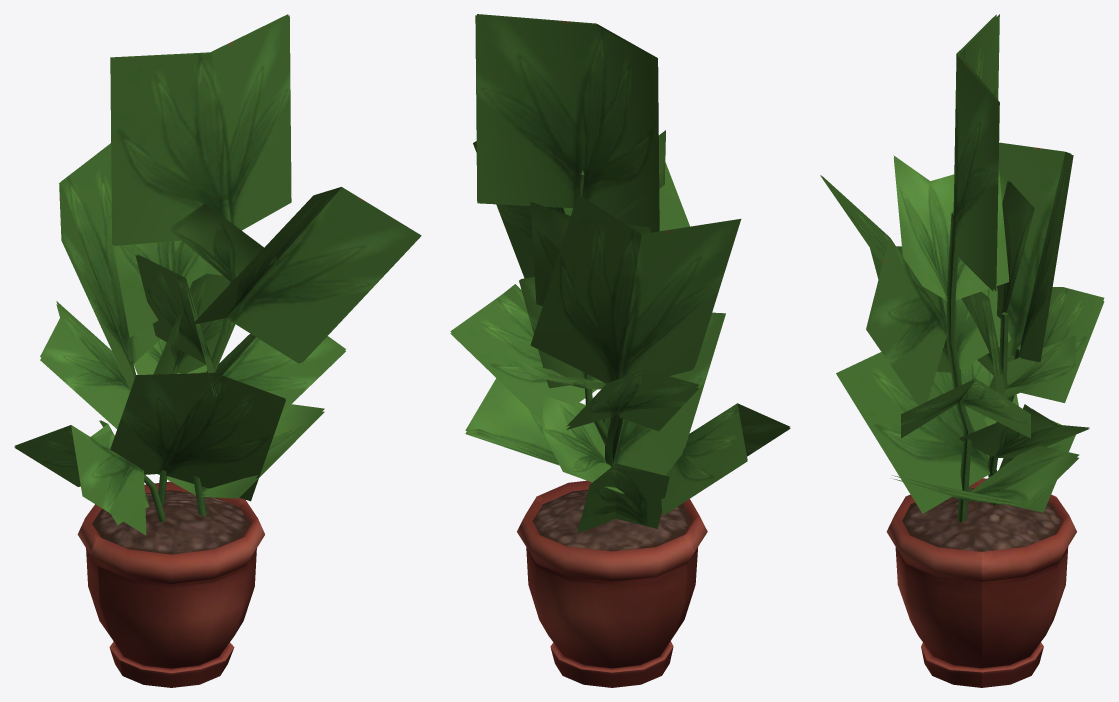
Rendered from planta2.fbx.
3 renders of one model, left to right at view 1: azimuth 30°, elevation 25°; view 2: azimuth 150°, elevation 25°; view 3: azimuth 270°, elevation 25°, orthographic.
Visible parts, largest first — view 1: s4studio_mesh_1; view 2: s4studio_mesh_1; view 3: s4studio_mesh_1.
Boxes of the visible parts, x1,y1,x2,y2 form: s4studio_mesh_1: (14,14,421,687); s4studio_mesh_1: (450,14,790,687); s4studio_mesh_1: (820,14,1104,687).
Size of the model in its own units: 83.69 by 145 by 59.98.
1 material, 1 textured.
